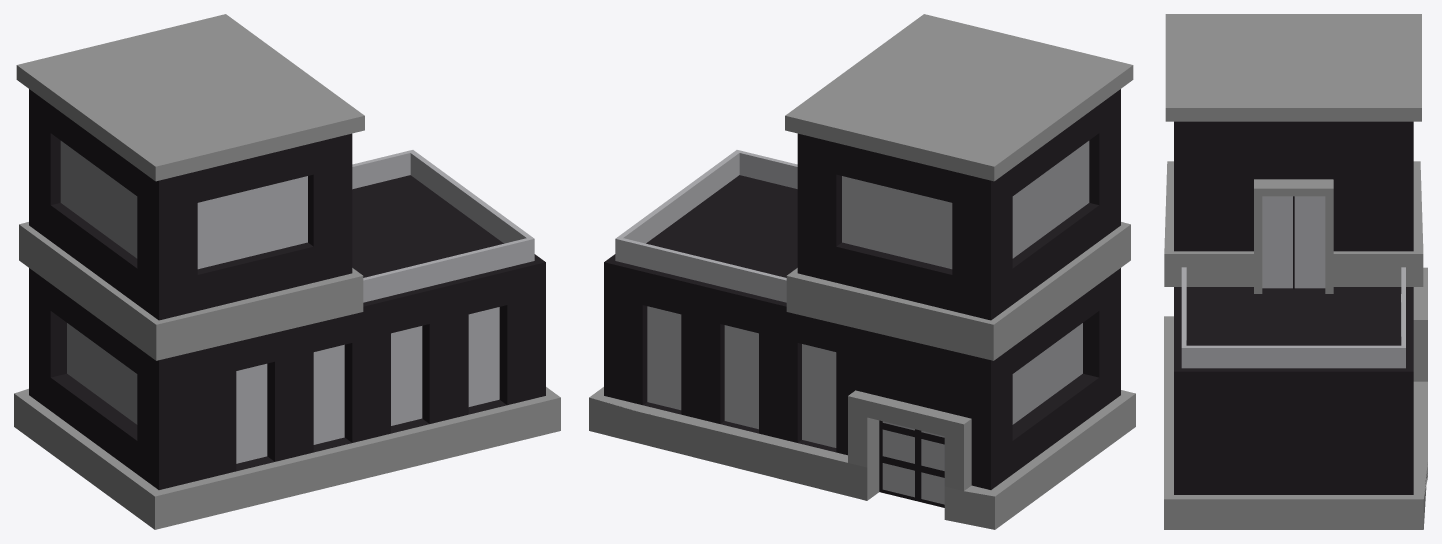
The model's file is apartmentB.fbx.
3 views of the same model, side by side, from view 1: azimuth 30°, elevation 25°; view 2: azimuth 150°, elevation 25°; view 3: azimuth 270°, elevation 25° (orthographic). The views are drawn at different scales.
Visible parts, largest first — view 1: ApartmentB; view 2: ApartmentB; view 3: ApartmentB.
Boxes of the visible parts, x1,y1,x2,y2 form: ApartmentB: (14,14,560,529); ApartmentB: (589,14,1135,529); ApartmentB: (1164,14,1427,529).
Bounding box in the file's own units: 2159 × 1840 × 1318.
